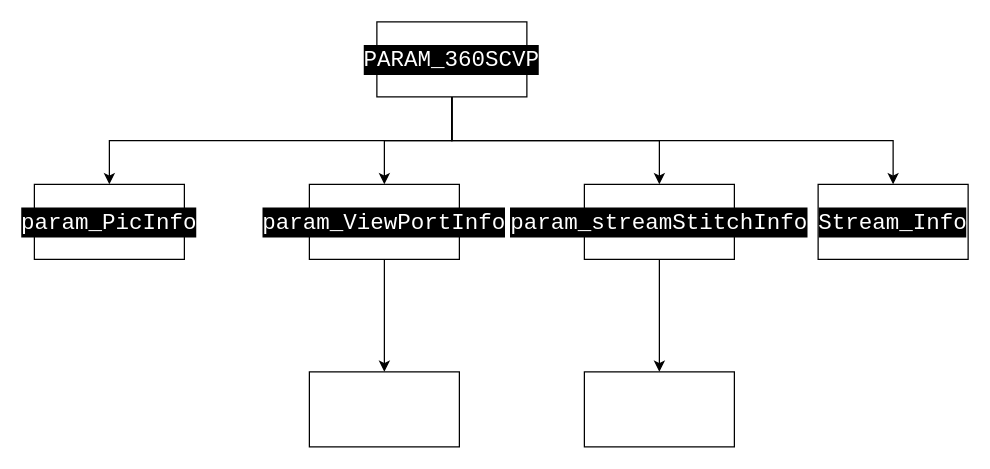
This 990x469 diagram has some shape labels left out. Here are the shapes that lost their labels. From the top down, the centre of each, then its label:
the point at 383,409: UsageType
the point at 658,409: param_oneStream_info
